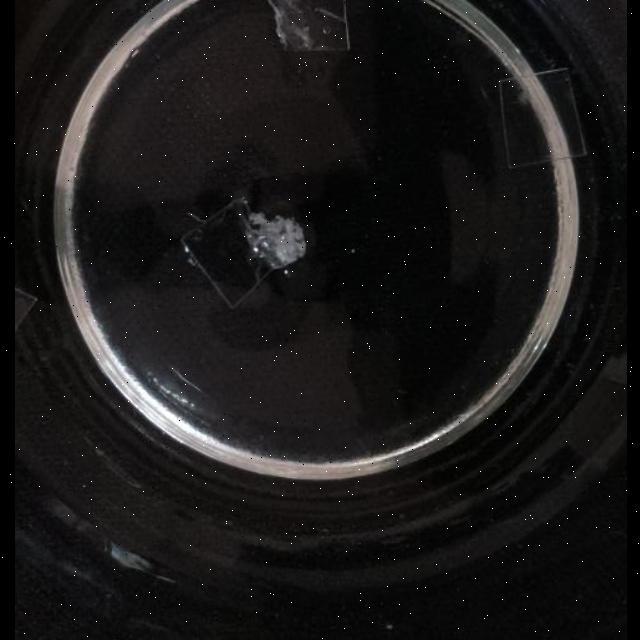Film: (178, 196, 304, 310), (503, 61, 587, 175), (258, 1, 352, 52), (14, 270, 41, 352)
